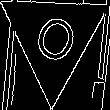O_SW: (26, 5, 82, 71)
